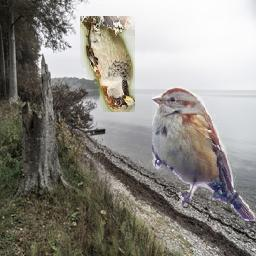Sparrow: (152, 85, 256, 221), (81, 16, 136, 112)
